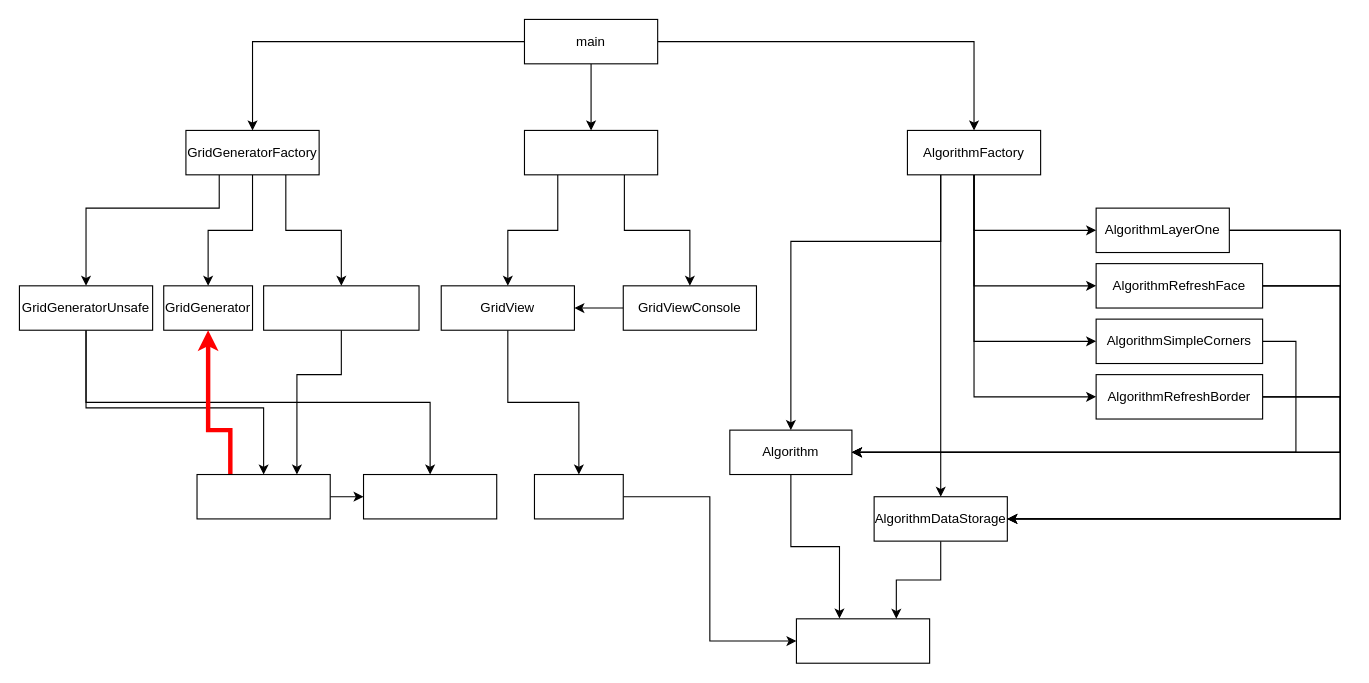
Image size: 1369x683. Some labels were removed from this diagram. Each missing label, with the centre of its shape:
Grid: the point at 578,496
GridGeneratorFromHash: the point at 341,307
GridInternalGenerator: the point at 263,496
GridManager: the point at 862,640
GridSelfGenerated: the point at 429,496
GridViewFactory: the point at 590,152
